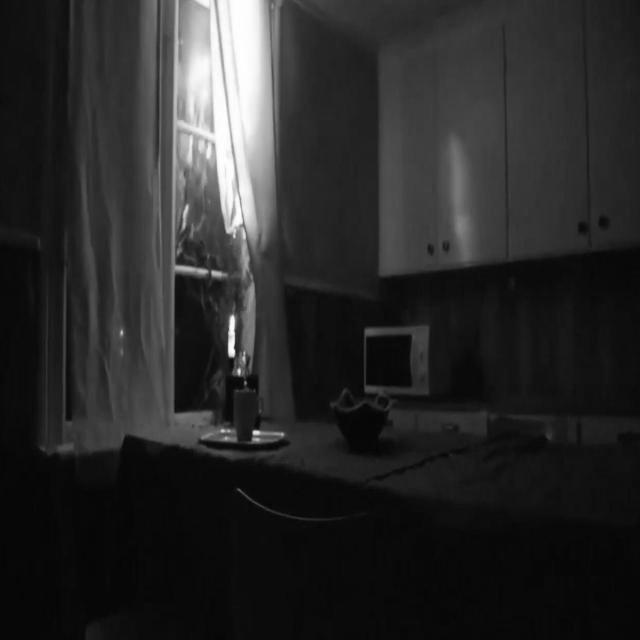smoke: (202, 0, 270, 235), (228, 312, 236, 331)
